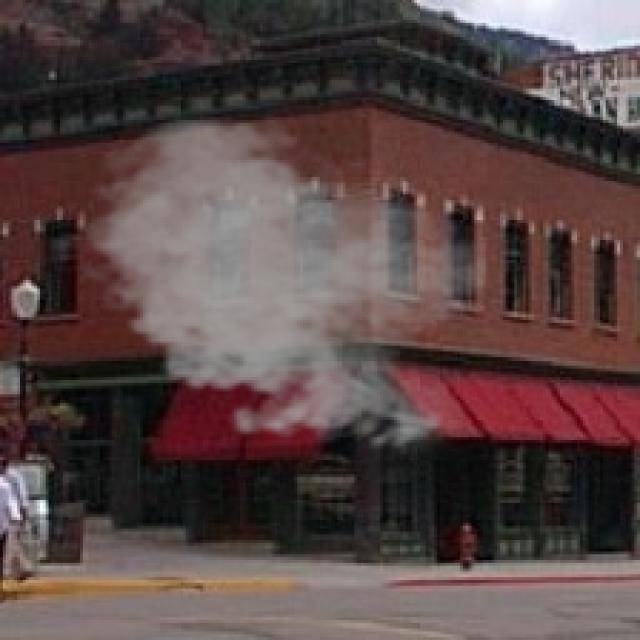smoke: (71, 109, 492, 460)
